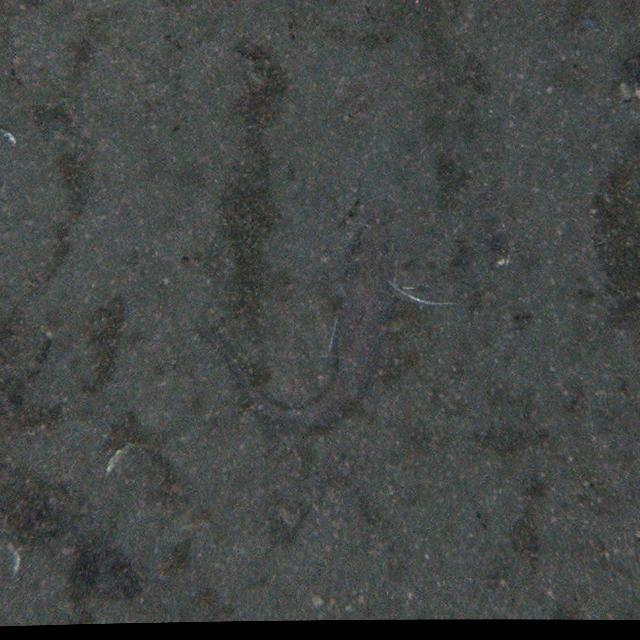roundfish: (226, 223, 457, 433)
